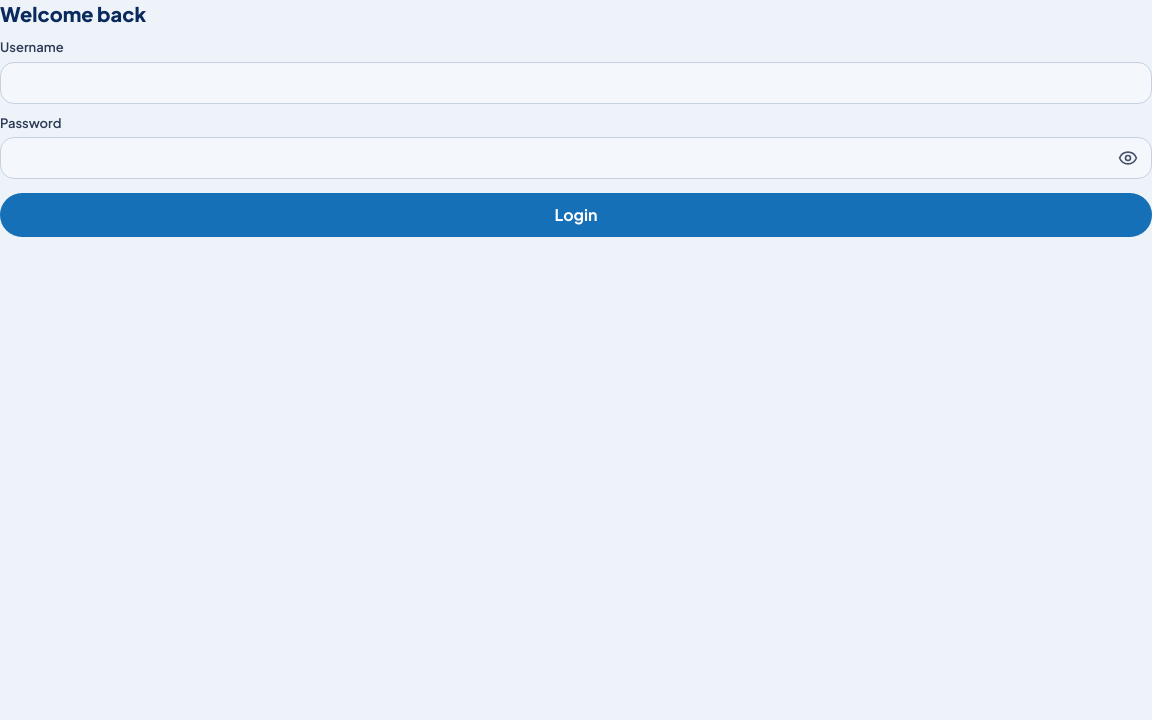
Test: LoginPage › refuses an inactive account and signs it out
In the field labelled "Username": [576, 82] box [0,62,1151,104], type "tony.bernardo"
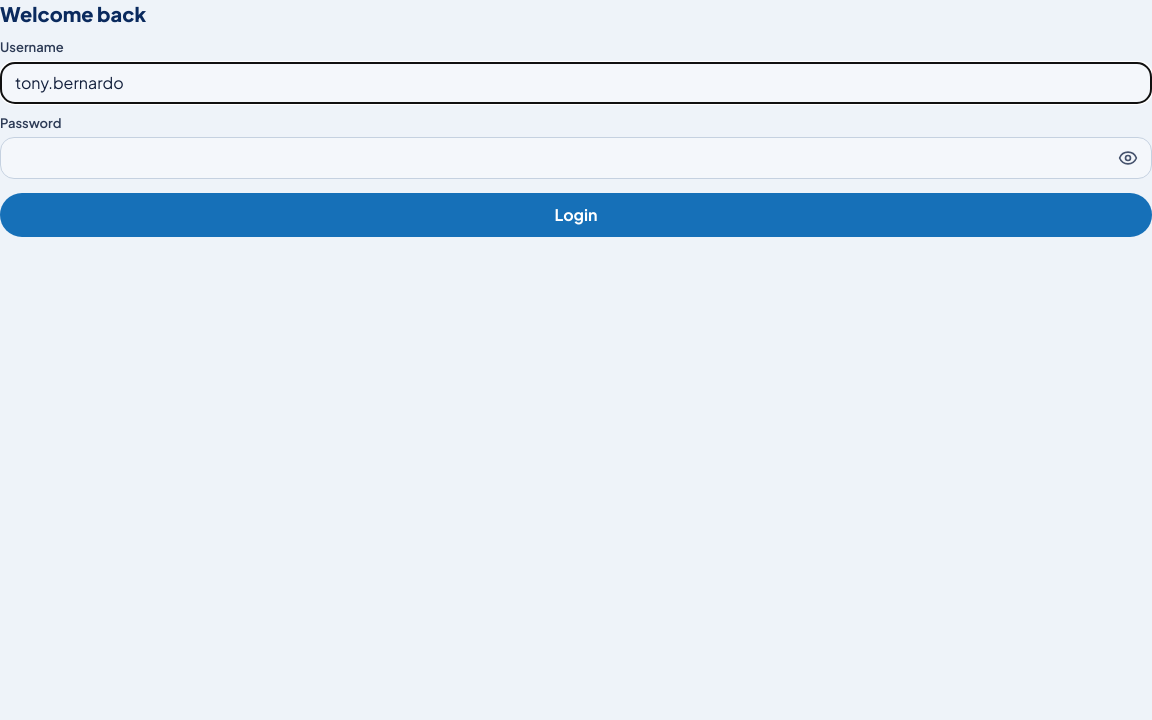
In the password field labelled "Password": [553, 158] box [1,138,1105,178], type "secret-pass"
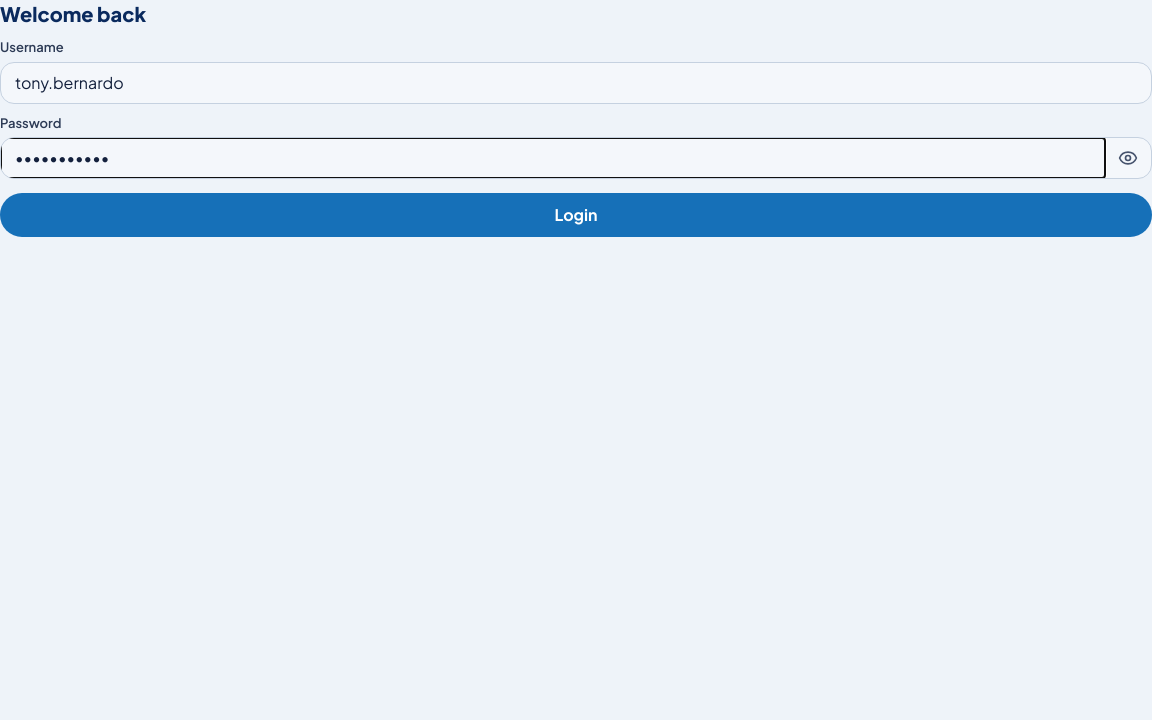
Click the button "Login": [576, 215] box [0,193,1151,237]
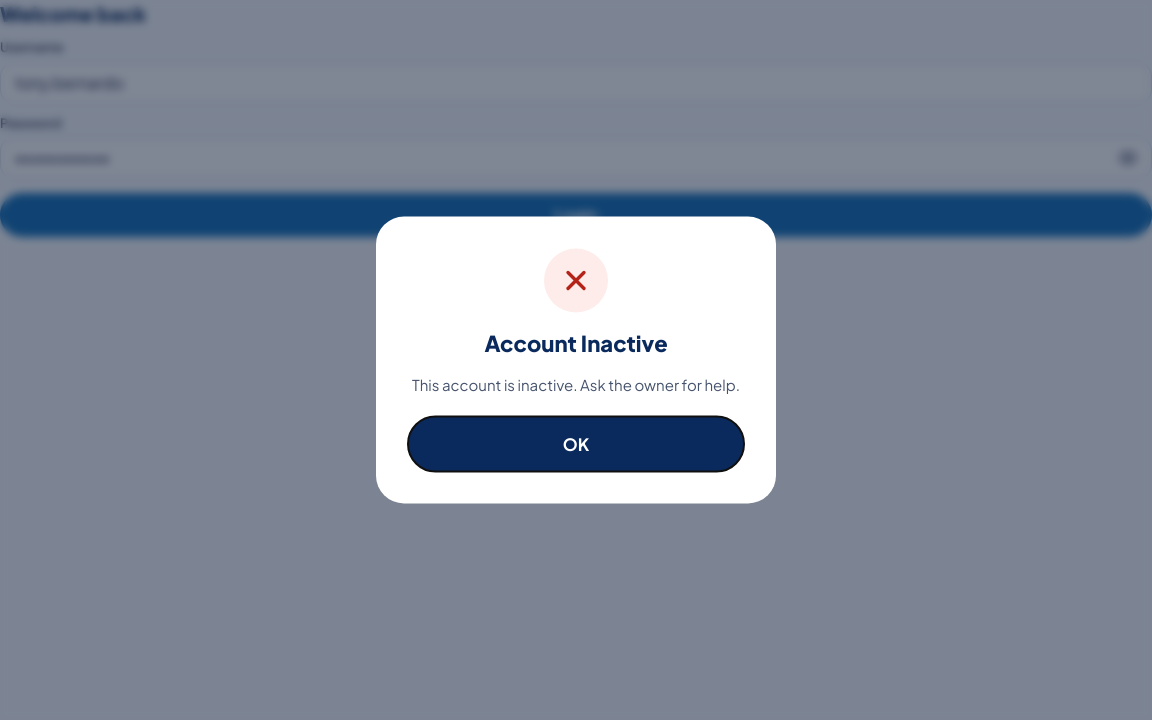
Expected: the dialog shows "Account Inactive", [484,328,668,356]
Expected: the dialog shows "This account is inactive", [412,374,740,394]
